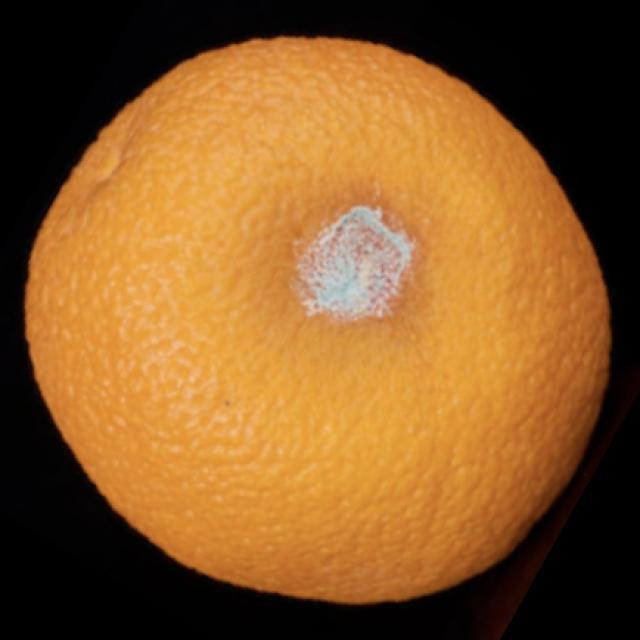sedikit-busuk: (26, 38, 609, 602), (297, 205, 415, 320)
